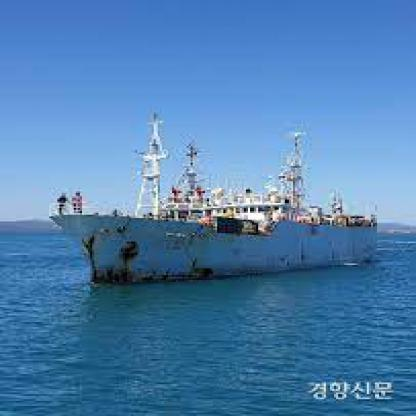fish-b: (41, 106, 391, 290)
